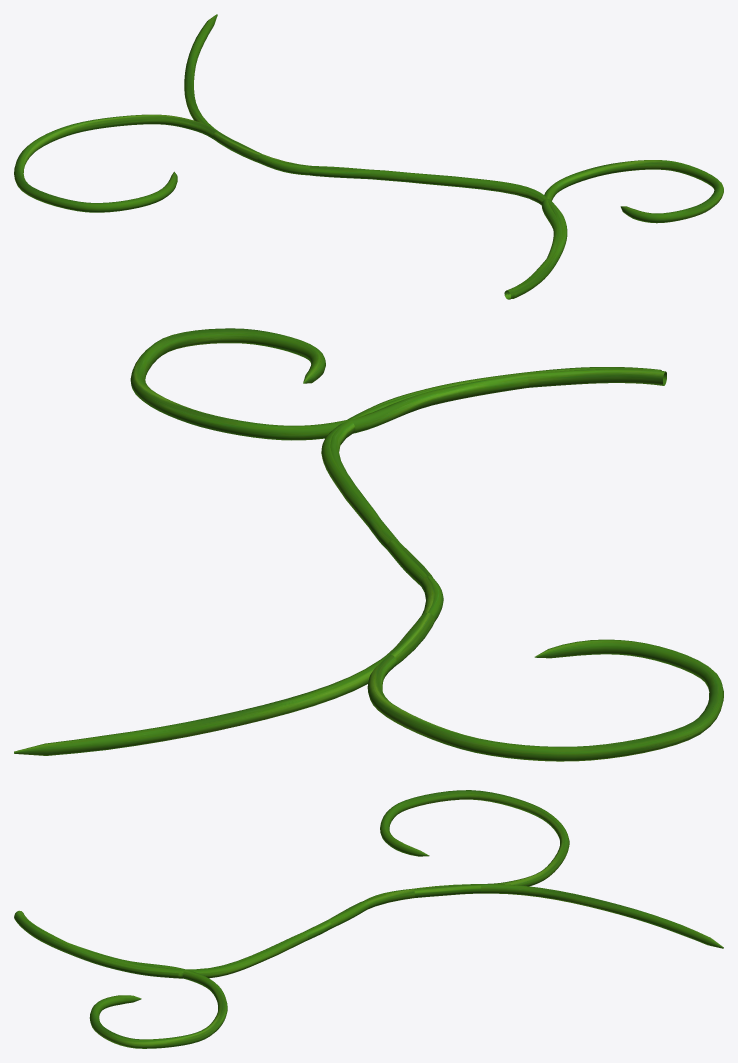
Rendered from 0441_tengman01.glb.
The picture shows the model from 3 angles, top to bottom: view 1: azimuth 30°, elevation 25°; view 2: azimuth 150°, elevation 25°; view 3: azimuth 270°, elevation 25°; orthographic projection. The views are drawn at different scales.
Bounding box in the file's own units: 1.86 × 0.0296 × 2.2.
Materials: 1 (1 with a texture image).
